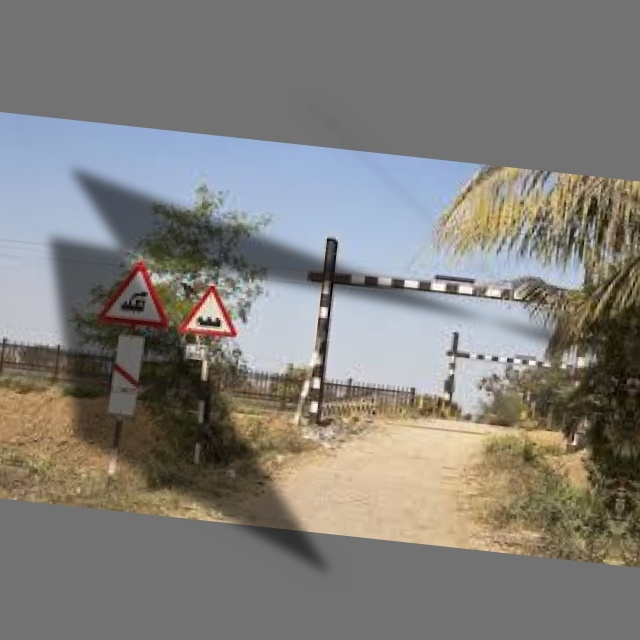Unguarded_Level_Crossing: (99, 249, 175, 337)
